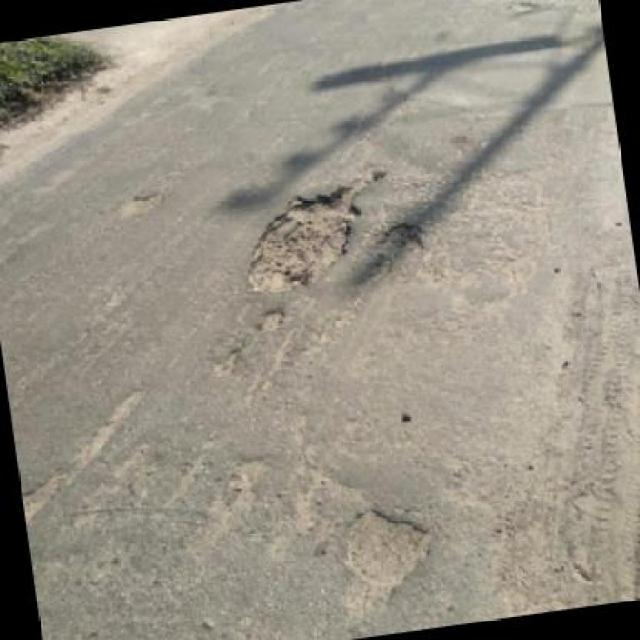pothole1: (229, 165, 396, 300), (326, 495, 446, 617), (356, 216, 430, 284), (20, 465, 68, 526), (113, 185, 170, 221)
